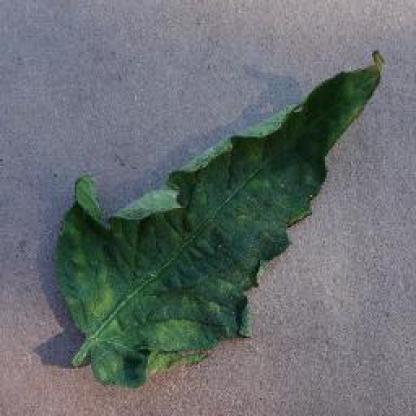bad leaf: (56, 238, 266, 384), (112, 137, 365, 237), (224, 49, 386, 195), (43, 168, 172, 279)
